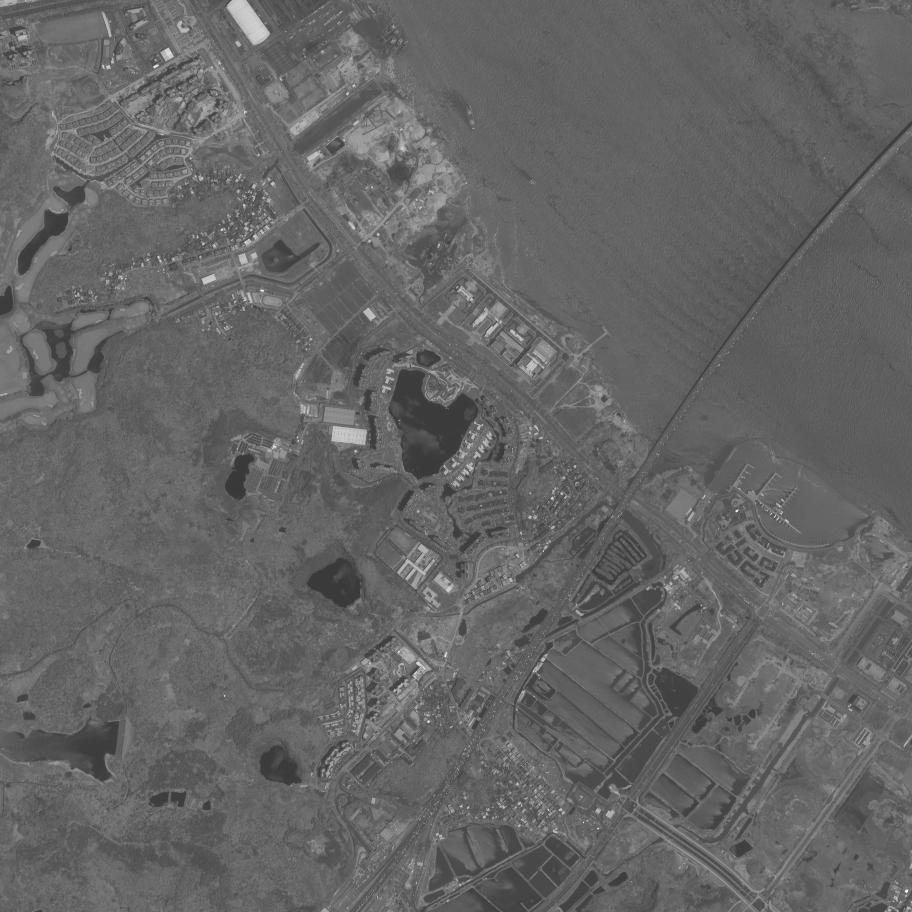ship: (464, 98, 477, 132), (386, 37, 405, 58), (378, 37, 398, 56), (380, 28, 401, 45), (377, 23, 398, 40), (392, 84, 409, 101), (396, 37, 411, 56), (421, 251, 435, 267), (418, 245, 431, 261), (365, 2, 378, 17), (443, 233, 455, 249), (360, 7, 373, 21), (723, 29, 733, 41), (425, 262, 436, 272), (435, 240, 442, 251), (785, 518, 790, 523), (776, 503, 781, 508), (780, 498, 785, 502), (760, 493, 765, 497), (702, 495, 706, 500), (779, 511, 783, 515), (776, 517, 780, 521), (780, 510, 784, 513), (768, 511, 772, 514), (770, 512, 773, 516), (752, 490, 755, 494), (707, 501, 711, 504), (743, 476, 746, 479), (765, 508, 768, 511), (766, 509, 769, 512), (773, 515, 776, 518), (779, 520, 782, 523), (738, 487, 741, 490), (745, 472, 748, 474), (740, 477, 743, 479), (762, 505, 764, 508), (764, 507, 766, 510), (740, 482, 742, 484)
